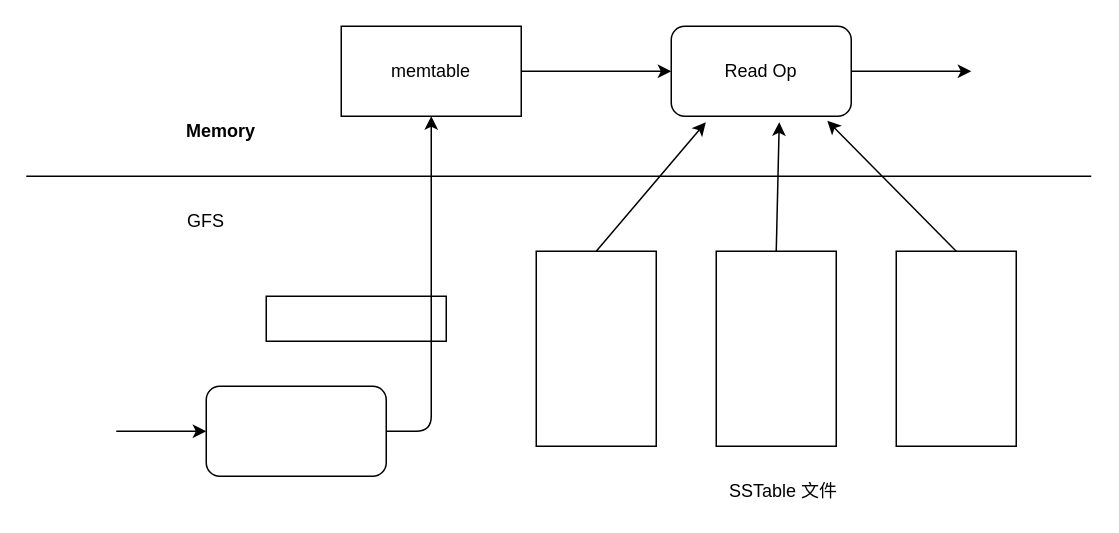
Image size: 1119x533. Some labels were removed from this diagram. The centre of each missing label's shape, as x and y in pixels:
"tablet log" goes at (355,318).
"Write Op" goes at (295,430).
